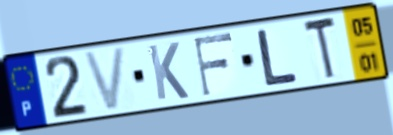2: (44, 54, 91, 121)
F: (192, 30, 235, 99)
K: (145, 40, 191, 103)
L: (254, 27, 300, 88)
T: (301, 13, 339, 84)
V: (80, 43, 129, 115)
